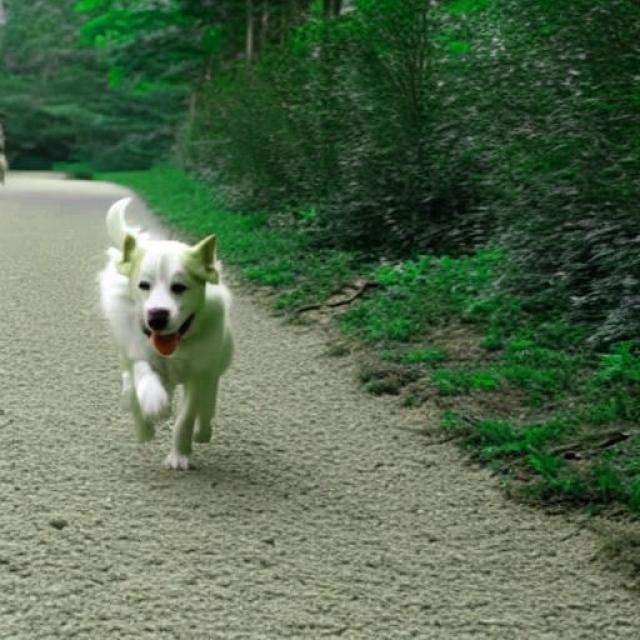Dog: (96, 196, 236, 471)
